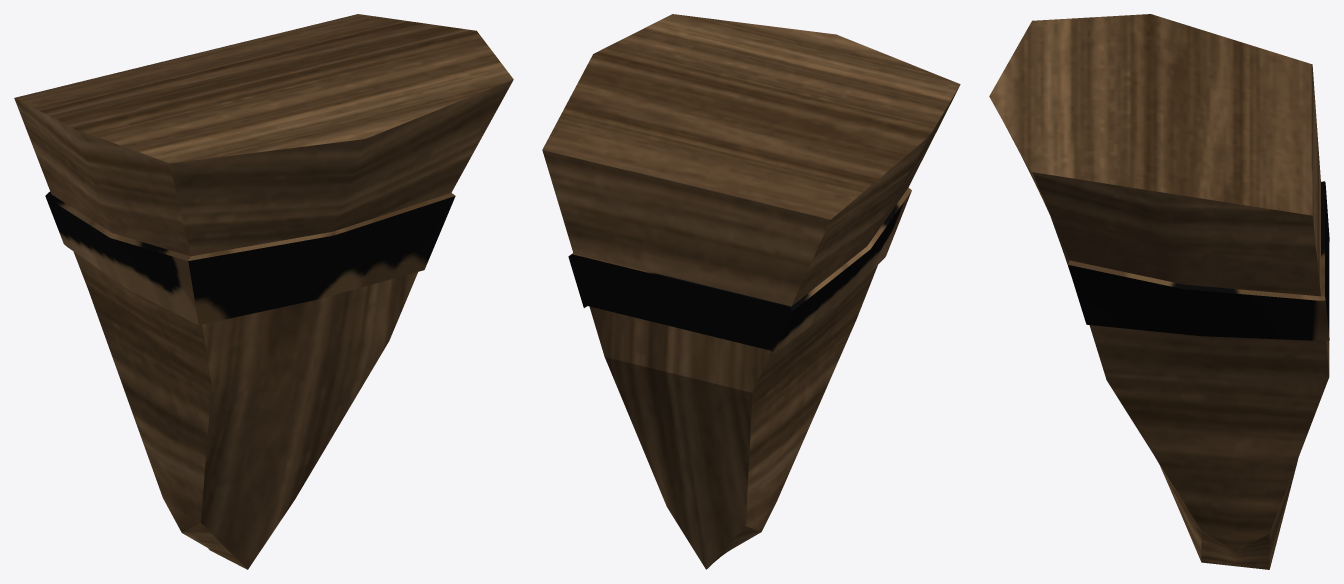
Rendered from Torch.fbx.
3 views of the same model, side by side, from view 1: azimuth 30°, elevation 25°; view 2: azimuth 150°, elevation 25°; view 3: azimuth 270°, elevation 25° (orthographic). The views are drawn at different scales.
Parts seen in each view (by area): view 1: Cube; view 2: Cube; view 3: Cube.
Boxes of the visible parts, x1=… form: Cube: x1=14, y1=14, x2=513, y2=569; Cube: x1=542, y1=14, x2=960, y2=569; Cube: x1=989, y1=14, x2=1329, y2=569.
Size of the model in its own units: 227 by 284 by 185.
1 material, 1 textured.
